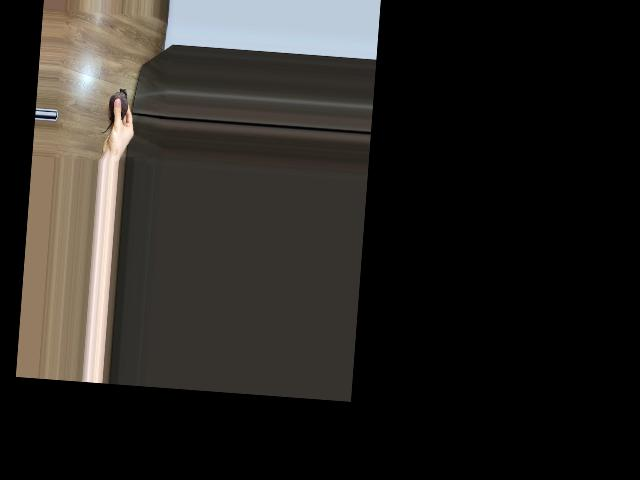beet: (100, 86, 129, 134)
